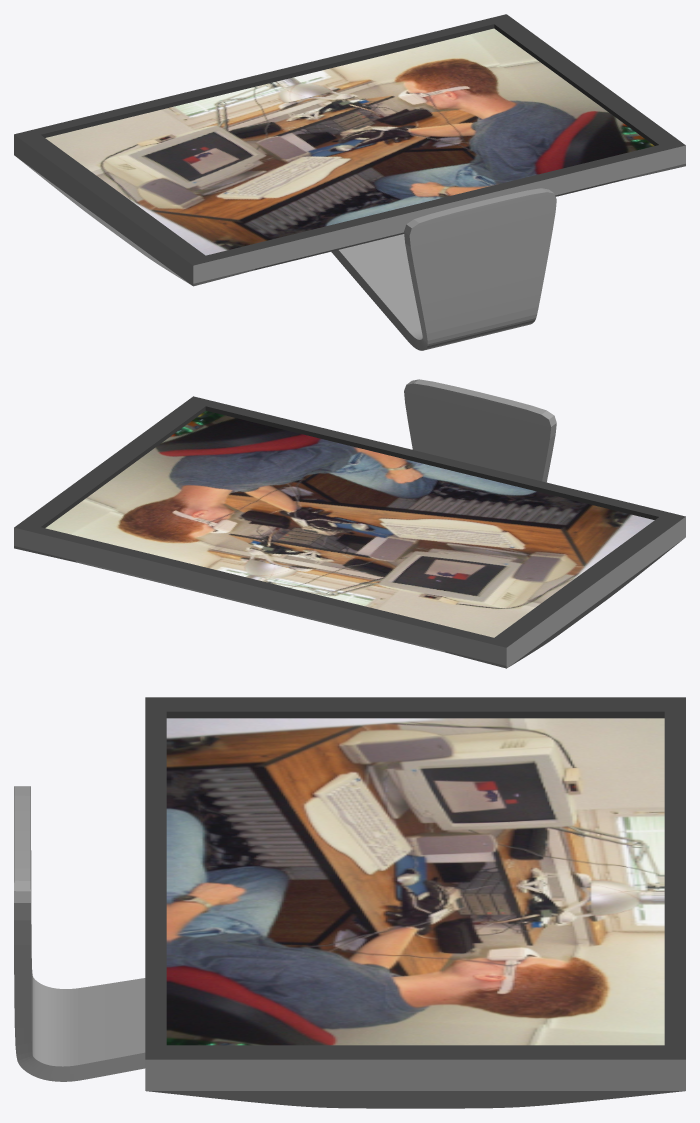
The model's file is oldPC.gltf.
3 renders of one model, top to bottom at view 1: azimuth 30°, elevation 25°; view 2: azimuth 150°, elevation 25°; view 3: azimuth 270°, elevation 25°, orthographic. The views are drawn at different scales.
Visible parts, largest first — view 1: Cube.013, Cube.015; view 2: Cube.013, Cube.015; view 3: Cube.013, Cube.015.
Boxes of the visible parts, x1,y1,x2,y2 form: Cube.013: (14,14,685,286); Cube.015: (331,188,556,350); Cube.013: (14,396,685,668); Cube.015: (404,379,556,482); Cube.013: (145,697,685,1108); Cube.015: (14,786,145,1081).
Size of the model in its own units: 2 by 0.5465 by 1.57.
Materials: 3 (1 with a texture image).
